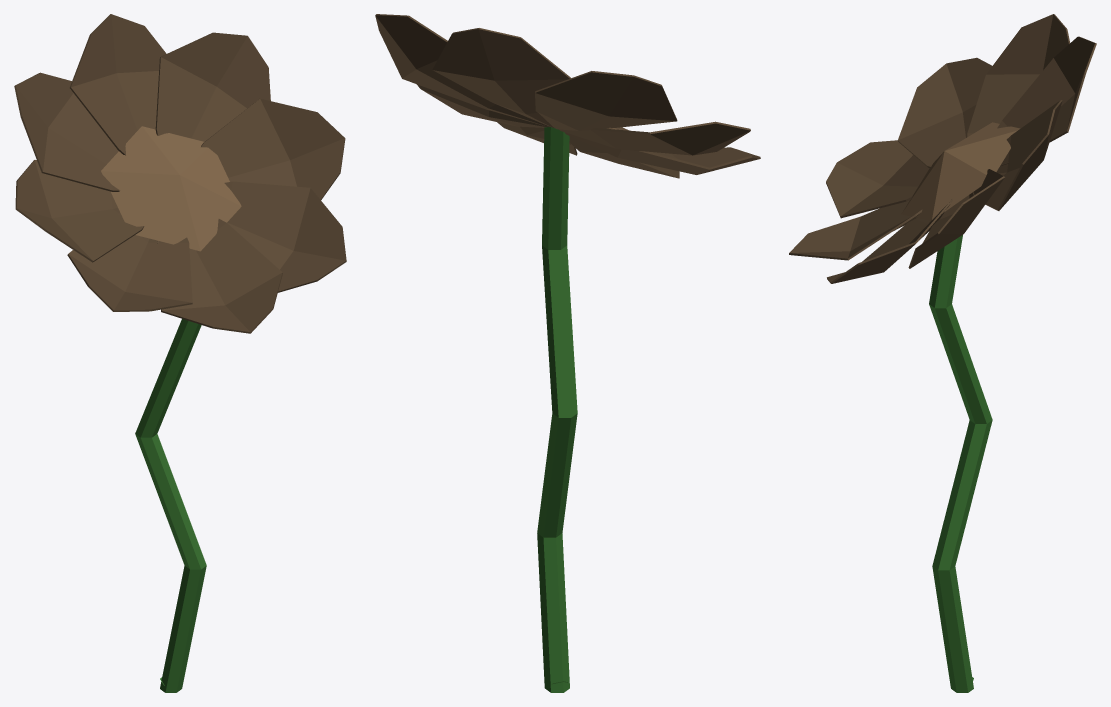
Rendered from Flower_5_Brown.fbx.
The picture shows the model from 3 angles, left to right: view 1: azimuth 30°, elevation 25°; view 2: azimuth 150°, elevation 25°; view 3: azimuth 270°, elevation 25°; orthographic projection. The views are drawn at different scales.
Visible parts, largest first — view 1: Flower_5_Brown_Part_2, Flower_5_Brown_Part_3, Flower_5_Brown_Part_1; view 2: Flower_5_Brown_Part_2, Flower_5_Brown_Part_1; view 3: Flower_5_Brown_Part_2, Flower_5_Brown_Part_1, Flower_5_Brown_Part_3.
Part boxes in pixels (box(x1,y1,x2,y2)): Flower_5_Brown_Part_2: box(14, 14, 346, 333); Flower_5_Brown_Part_3: box(101, 126, 241, 251); Flower_5_Brown_Part_1: box(135, 319, 206, 692); Flower_5_Brown_Part_2: box(375, 14, 760, 178); Flower_5_Brown_Part_1: box(537, 127, 577, 692); Flower_5_Brown_Part_2: box(789, 14, 1096, 283); Flower_5_Brown_Part_1: box(929, 235, 992, 692); Flower_5_Brown_Part_3: box(901, 122, 1020, 220).
Size of the model in its own units: 20.28 by 37.24 by 16.04.
